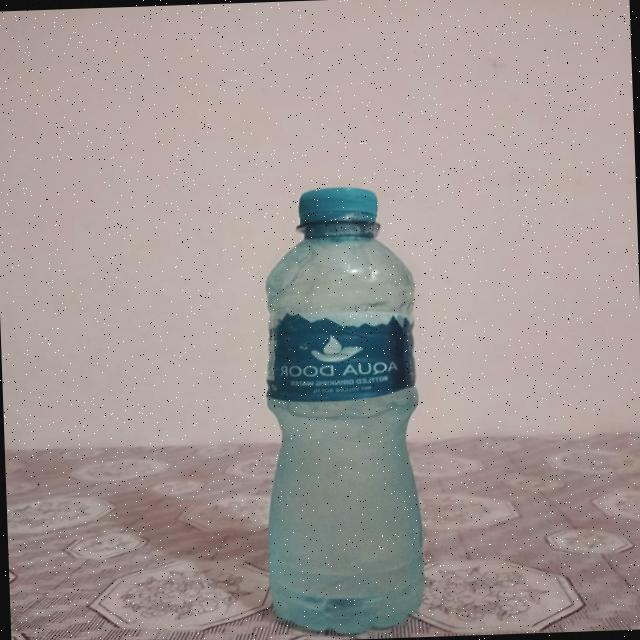bottle: (258, 182, 429, 634)
cap: (297, 187, 378, 224)
label: (264, 307, 413, 403)
